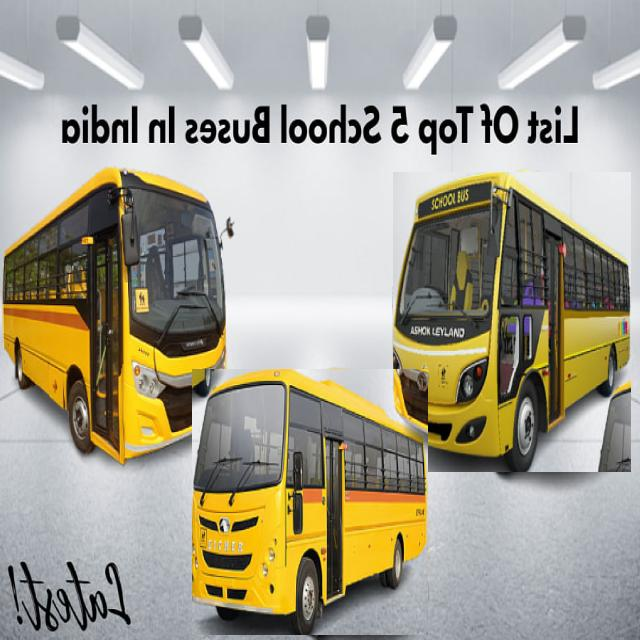bus: (393, 173, 630, 472), (2, 167, 232, 462), (192, 369, 428, 635)
